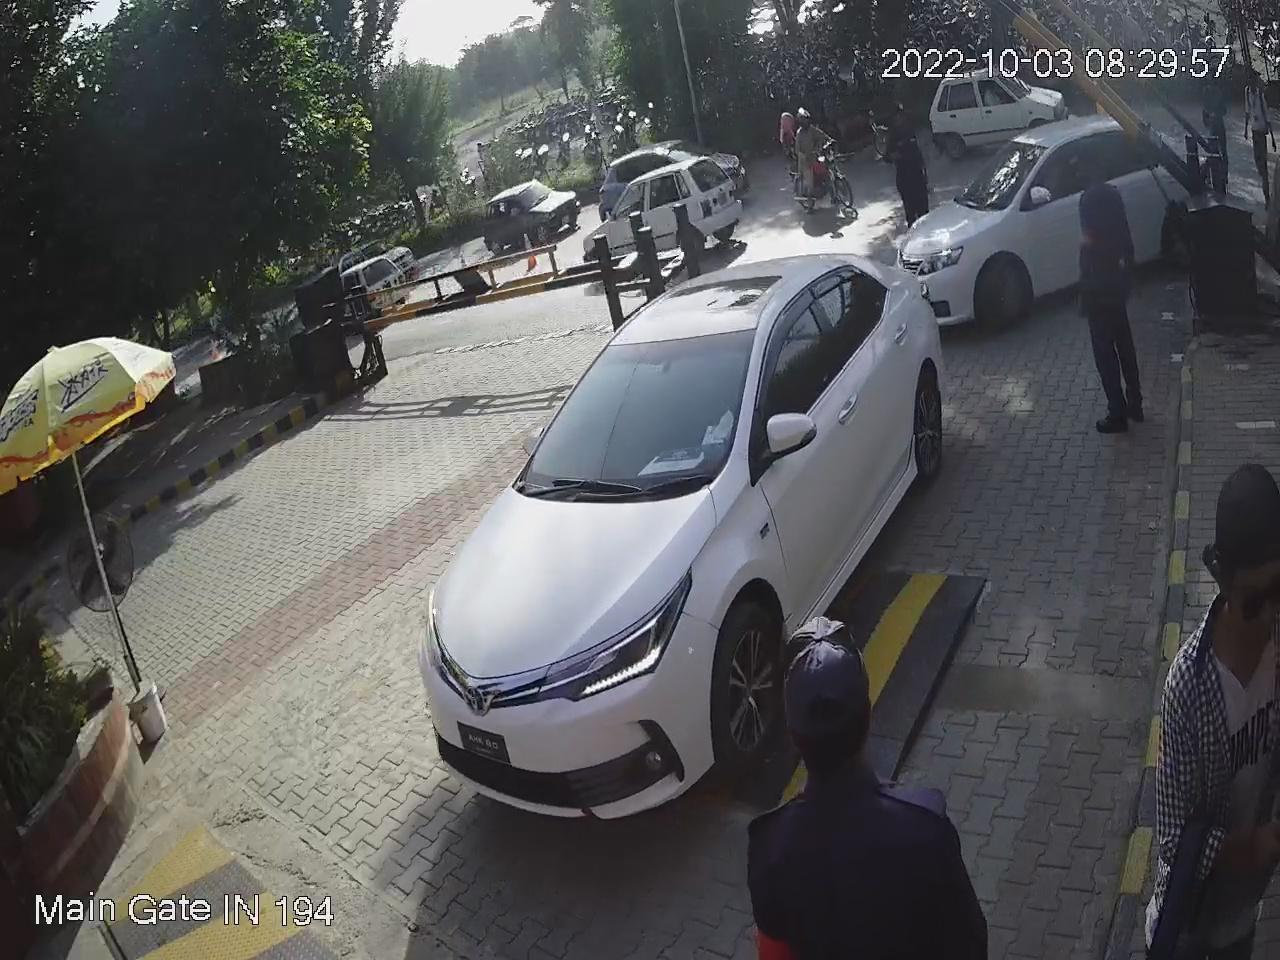windshield: (528, 328, 748, 478)
